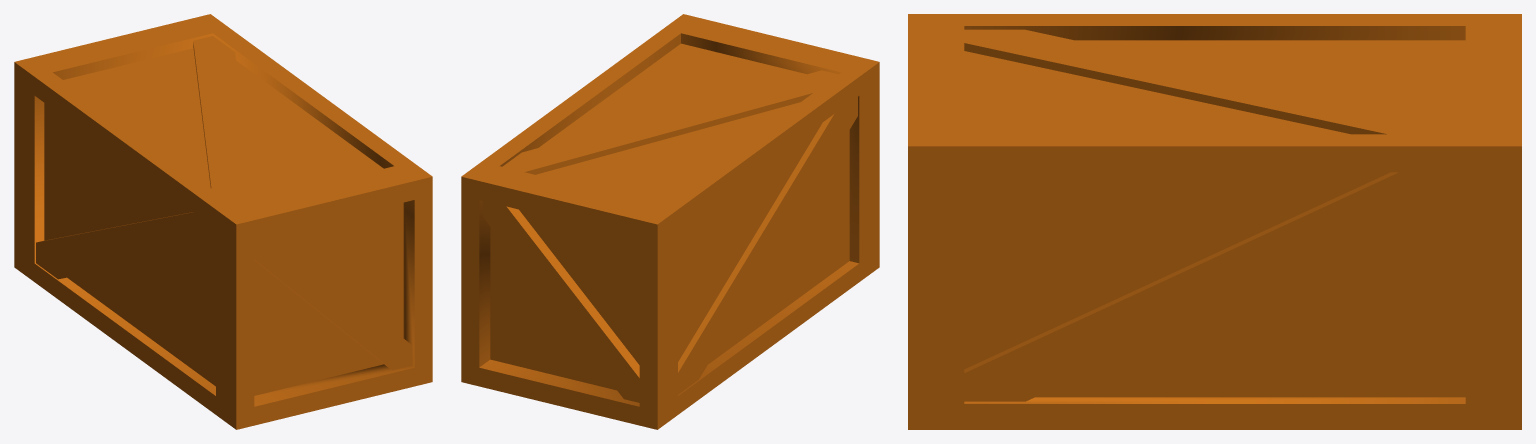
File: Prop_Box_Wood_E.fbx
3 views of the same model, side by side, from view 1: azimuth 30°, elevation 25°; view 2: azimuth 150°, elevation 25°; view 3: azimuth 270°, elevation 25° (orthographic). The views are drawn at different scales.
Parts seen in each view (by area): view 1: Prop_Box_Wood_E; view 2: Prop_Box_Wood_E; view 3: Prop_Box_Wood_E.
Boxes of the visible parts, x1=… form: Prop_Box_Wood_E: x1=14, y1=14, x2=432, y2=429; Prop_Box_Wood_E: x1=461, y1=14, x2=879, y2=429; Prop_Box_Wood_E: x1=908, y1=14, x2=1521, y2=429.
Size of the model in its own units: 129 by 65.97 by 65.97.
